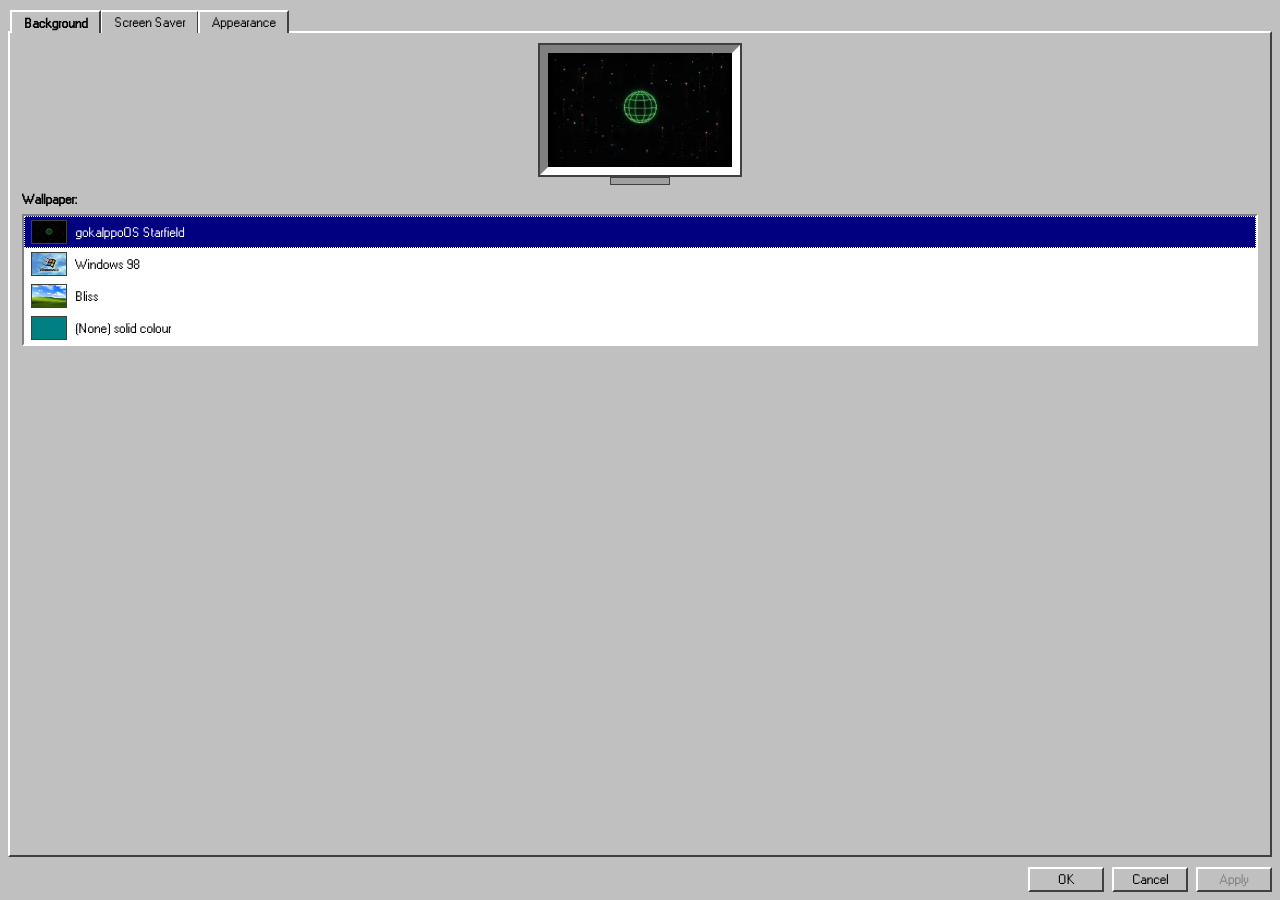
Test: Display Properties › disables the wait time and preview when the saver is off
Click the tab "Screen Saver" at point(150, 22), box [100,10,199,33]
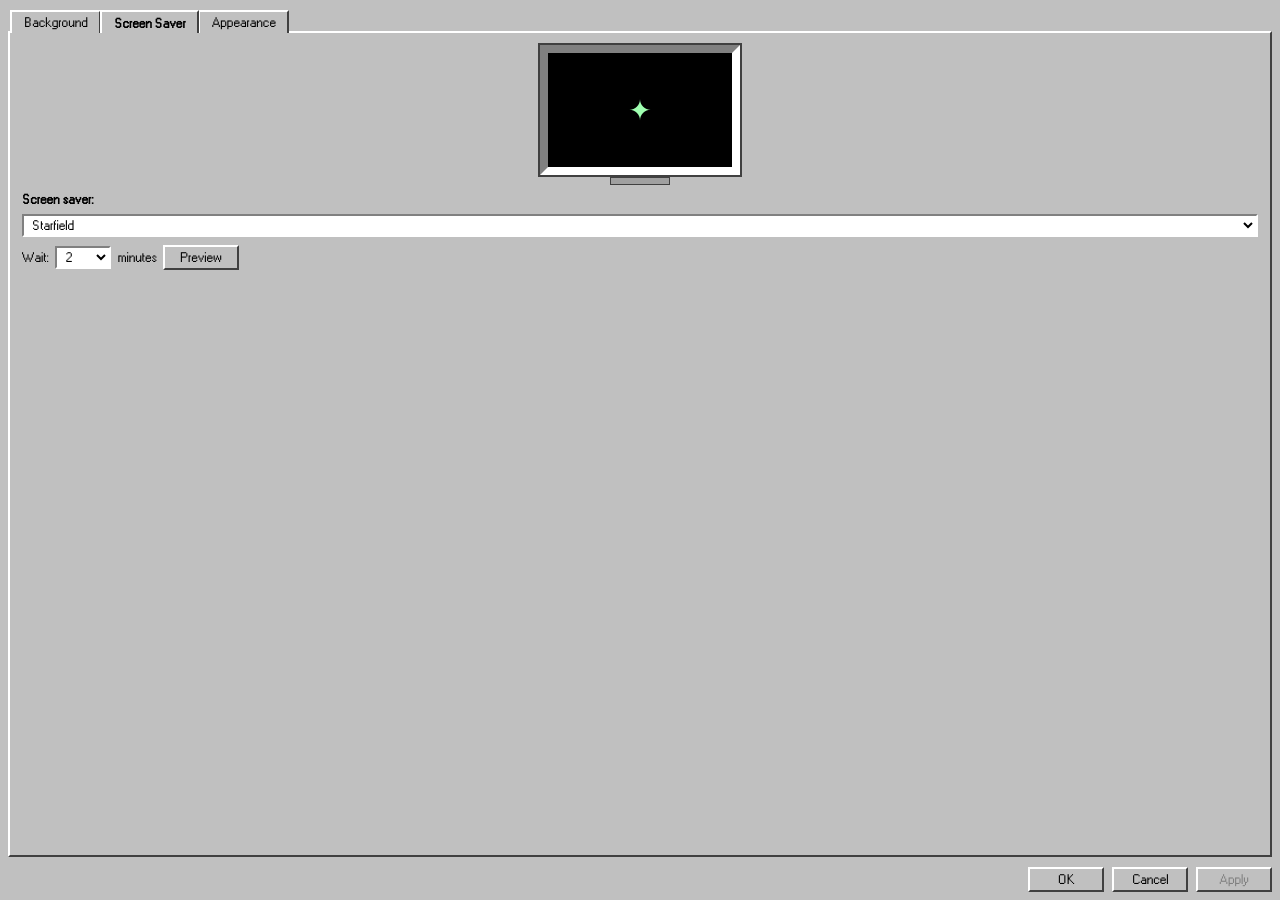
Select "(None)" in the dropdown labelled "Screen saver:" at point(640, 226), box [22,214,1258,237]
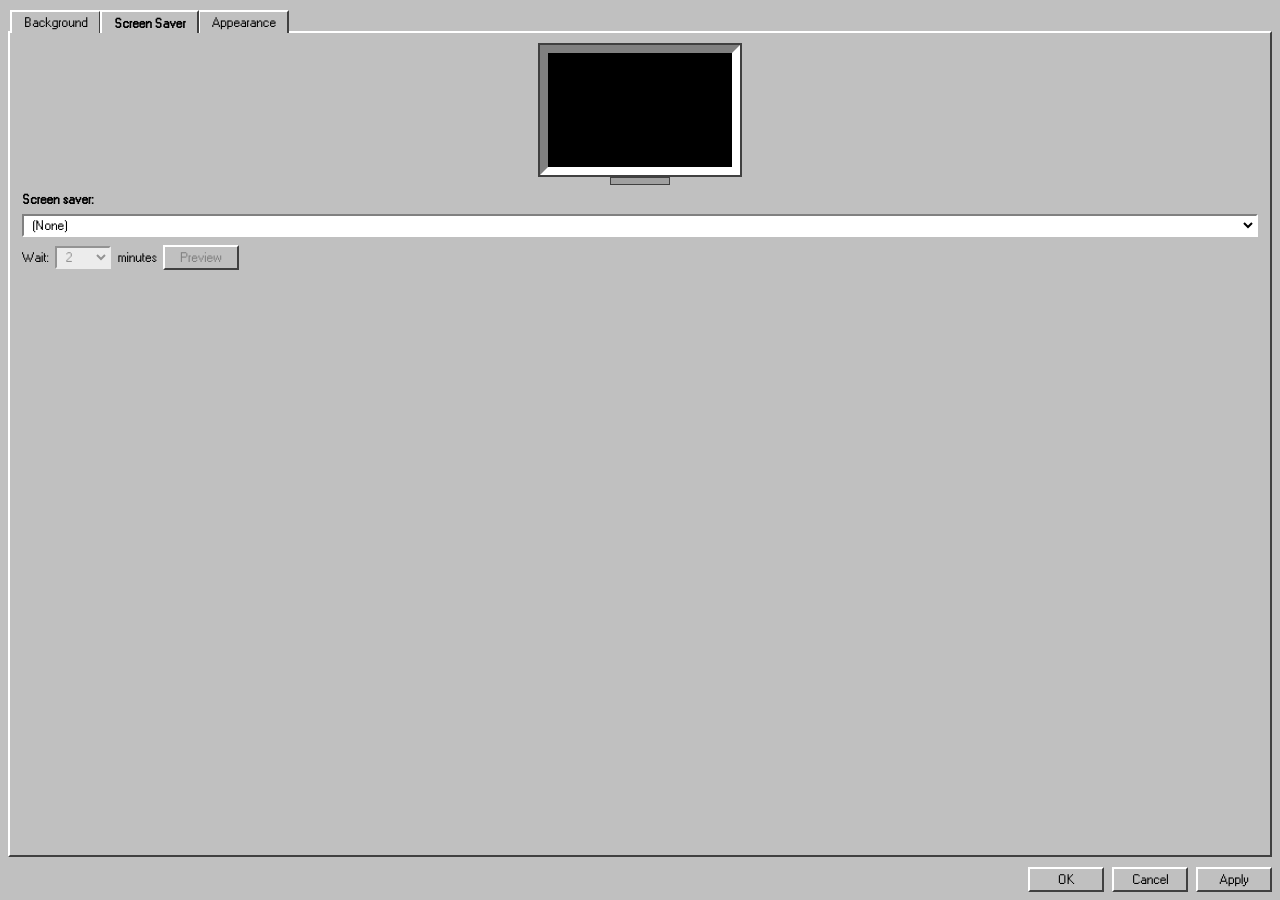
Now the dropdown labelled "Wait:" is disabled, box [55,246,111,269]
Now the button "Preview" is disabled, box [162,245,238,270]
